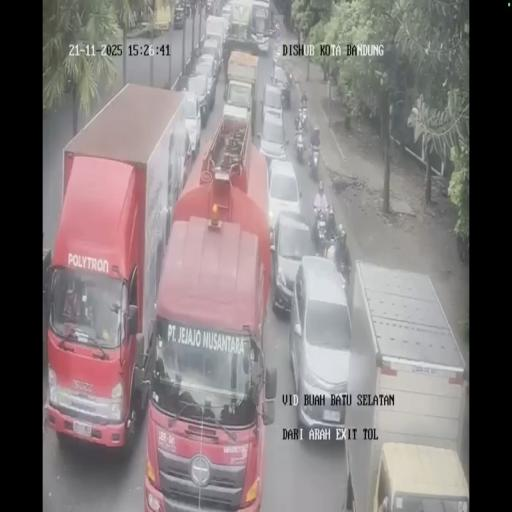car: (290, 259, 352, 438), (265, 158, 302, 244), (259, 87, 288, 163), (222, 80, 254, 134), (185, 71, 211, 133), (200, 37, 222, 80), (221, 2, 232, 30)
motorcycle: (332, 244, 352, 295), (308, 143, 320, 179), (294, 130, 305, 163)
truck: (46, 83, 192, 456), (173, 1, 186, 29)
